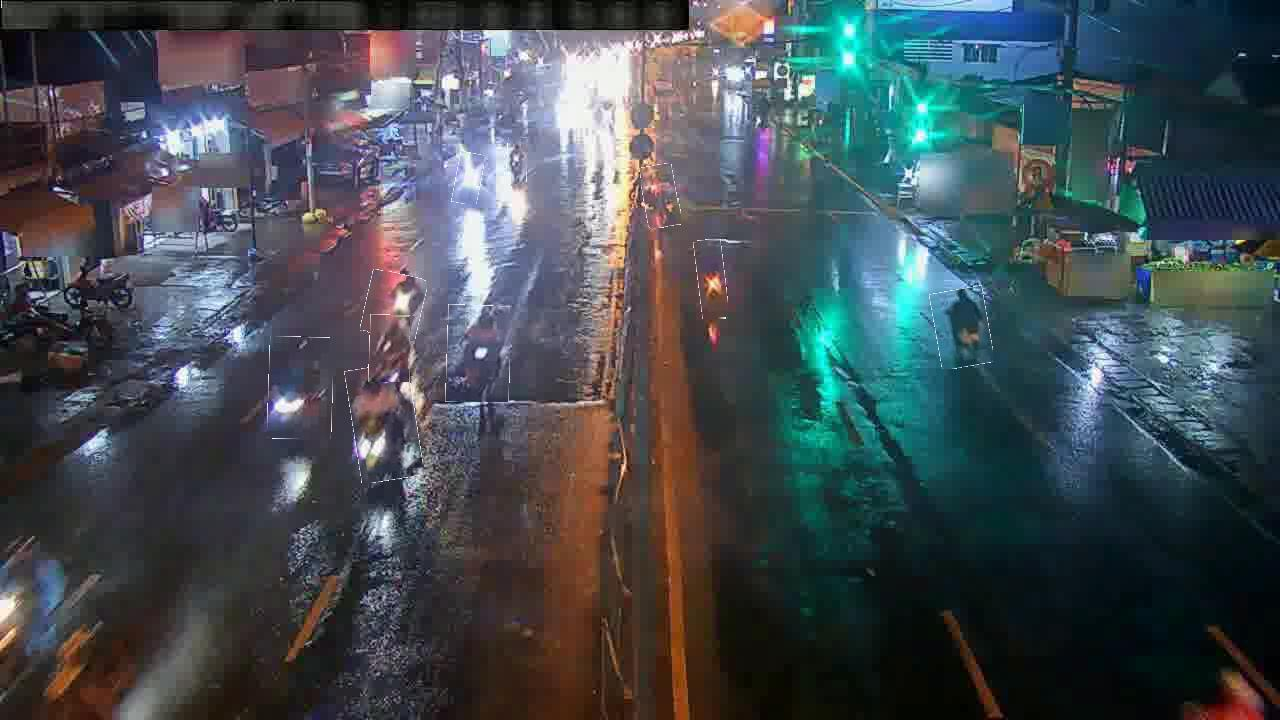motorbike: (349, 364, 420, 482), (268, 336, 334, 440), (446, 305, 511, 403), (932, 287, 991, 368), (363, 272, 425, 340), (369, 316, 411, 383), (696, 240, 727, 320), (642, 164, 680, 228), (454, 152, 483, 205), (506, 137, 528, 187)
